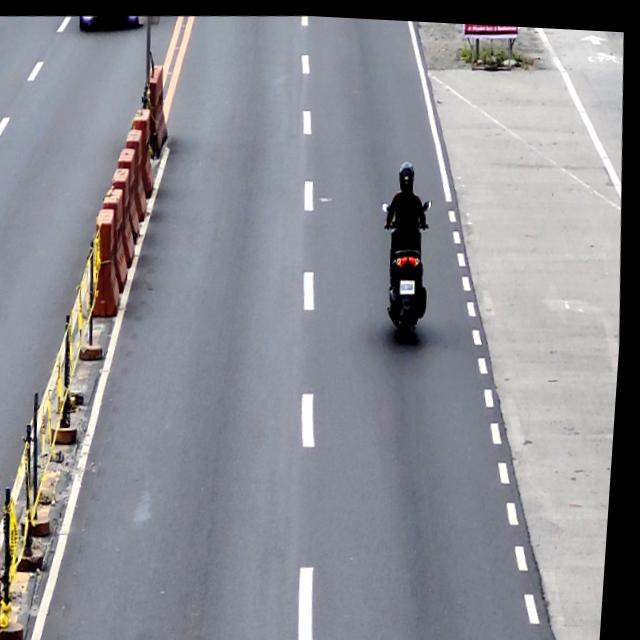License-Plate: (402, 275, 420, 292)
Motorcycle: (376, 192, 441, 343)
